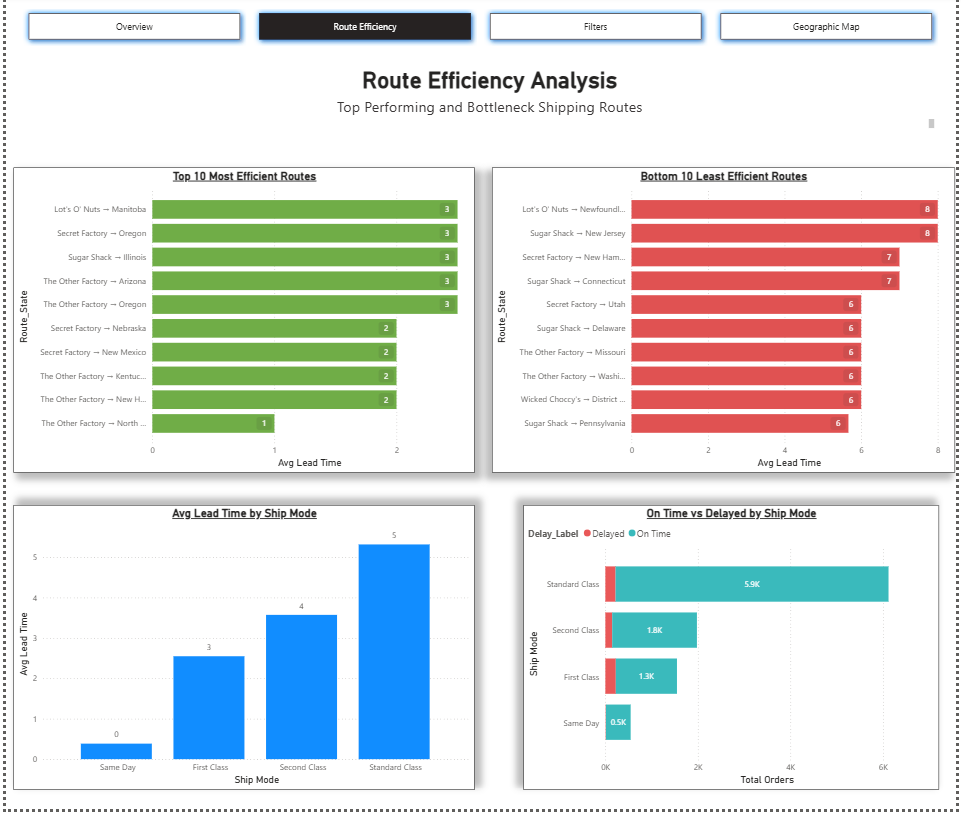

The page's visual inventory and layout, read from the dashboard file:
{"tool":"powerbi","page":{"name":"Route Efficiency","canvas":[1400,1200],"ordinal":1},"visuals":[{"type":"clusteredBarChart","title":"Top 10 Most Efficient Routes","fields":{"Category":["Nassau Candy Distributor.Route_State"],"Y":["Nassau Candy Distributor.Avg Lead Time"]},"box":[10,255,680,450],"z":0},{"type":"clusteredBarChart","title":"Bottom 10 Least Efficient Routes","fields":{"Category":["Nassau Candy Distributor.Route_State"],"Y":["Nassau Candy Distributor.Avg Lead Time"]},"box":[717.5,255,682.5,450],"z":1000},{"type":"clusteredColumnChart","title":"Avg Lead Time by Ship Mode","fields":{"Category":["Nassau Candy Distributor.Ship Mode"],"Y":["Nassau Candy Distributor.Avg Lead Time"]},"box":[10,752.5,680,420],"z":2000},{"type":"barChart","title":"On Time vs Delayed by Ship Mode","fields":{"Category":["Nassau Candy Distributor.Ship Mode"],"Y":["Nassau Candy Distributor.Total Orders"],"Series":["Nassau Candy Distributor.Delay_Label"]},"box":[762.5,752.5,612.5,420],"z":3000},{"type":"pageNavigator","box":[25,17.5,1350,57.5],"z":8000},{"type":"textbox","title":"Route Efficiency Analysis","box":[53.6,107.2,1320.2,95],"z":9000}]}

Visuals, with their boxes in screenshot pixels (x1, y1, x2, y2), scaled from the page's 1400x1200 canvas onto the 961x813 screenshot:
"Top 10 Most Efficient Routes" clusteredBarChart: [7,173,474,478]
"Bottom 10 Least Efficient Routes" clusteredBarChart: [493,173,960,478]
"Avg Lead Time by Ship Mode" clusteredColumnChart: [7,510,474,794]
"On Time vs Delayed by Ship Mode" barChart: [523,510,944,794]
pageNavigator: [17,12,944,51]
"Route Efficiency Analysis" textbox: [37,73,943,137]
